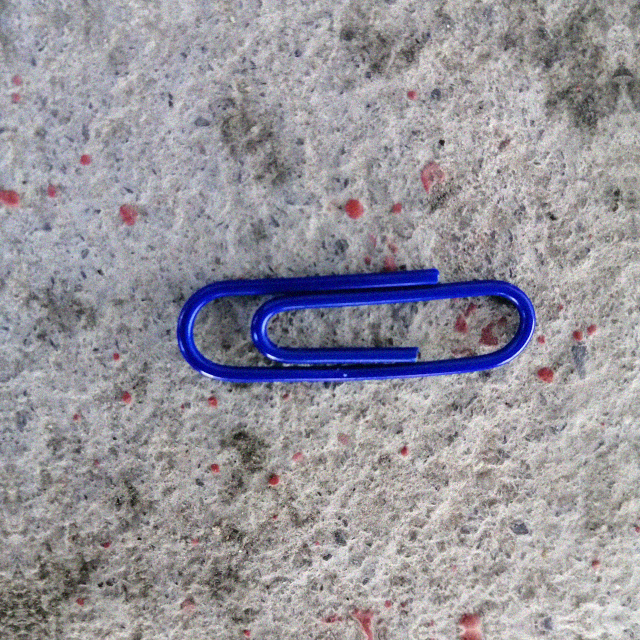pin: (180, 265, 533, 392)
